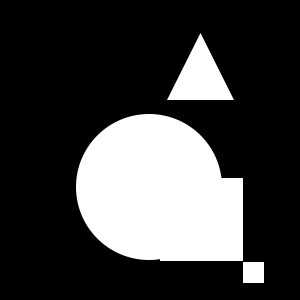circle: (160, 178, 243, 261), (243, 262, 264, 283)
rectangle: (76, 114, 222, 260)
triangle: (167, 33, 234, 100)
